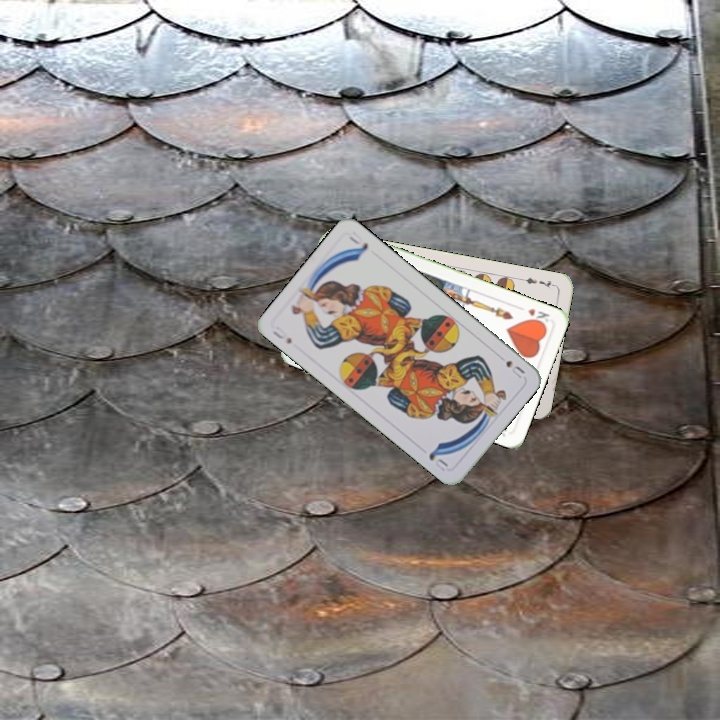E7: (518, 273, 558, 290)
HK: (524, 304, 553, 328)
SU: (502, 356, 527, 381), (268, 322, 294, 346)
